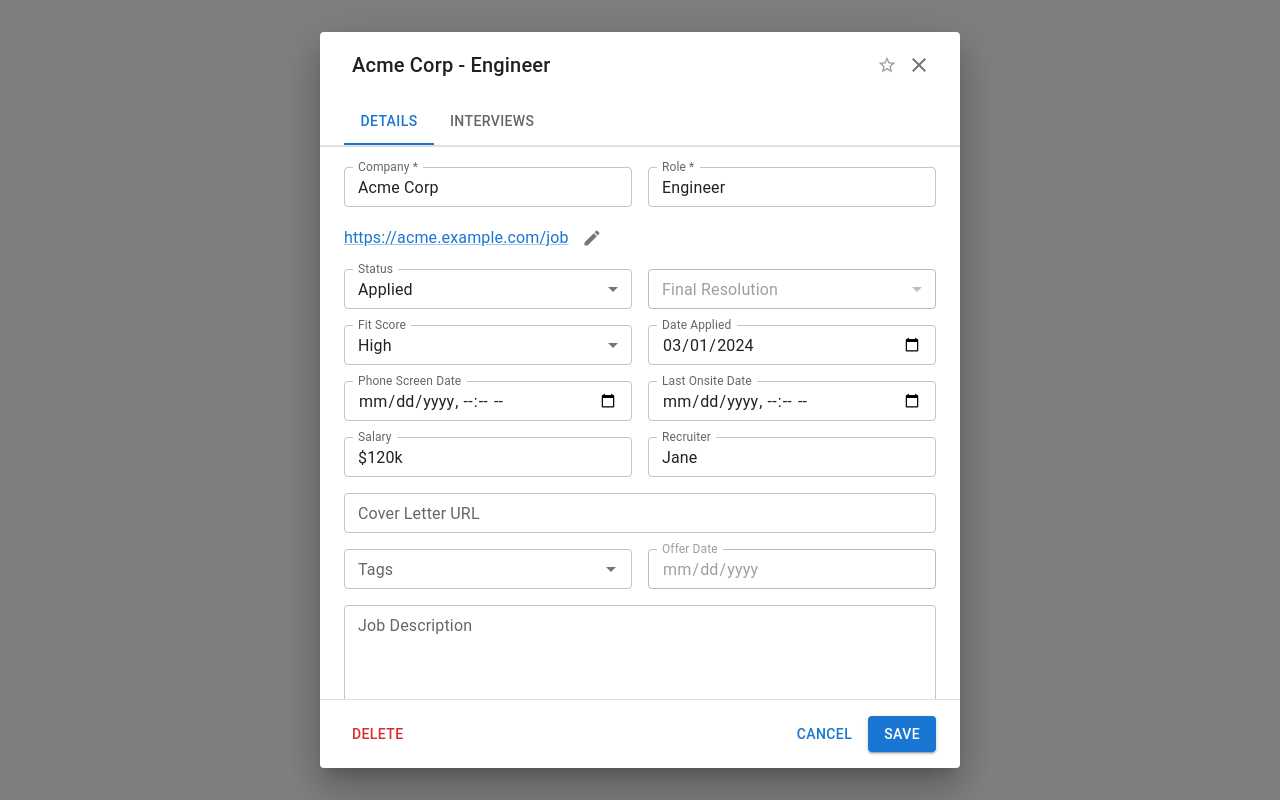
Scenario: jobDialog › link field (edit mode) › switches to text field when Edit link button is clicked
expect the field labelled "Company *" holds "Acme Corp": met, box 344,167 -> 632,207
What coordinates should you click on to do the following:
click the button named "Edit link"
I would click on:
 (592, 238)
Its box is 577,223 -> 607,253.
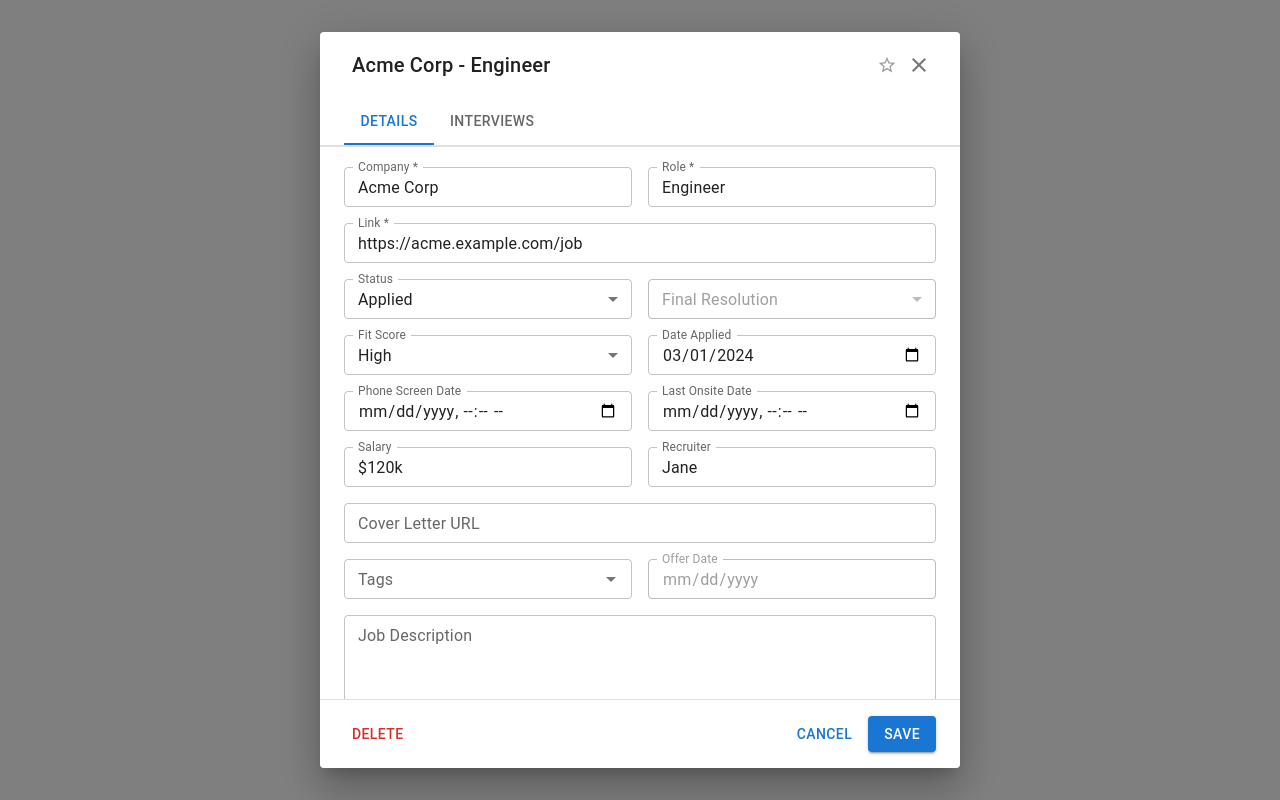
expect the field labelled "Link *" holds "https://acme.example.com/job": met, box 344,223 -> 936,263
